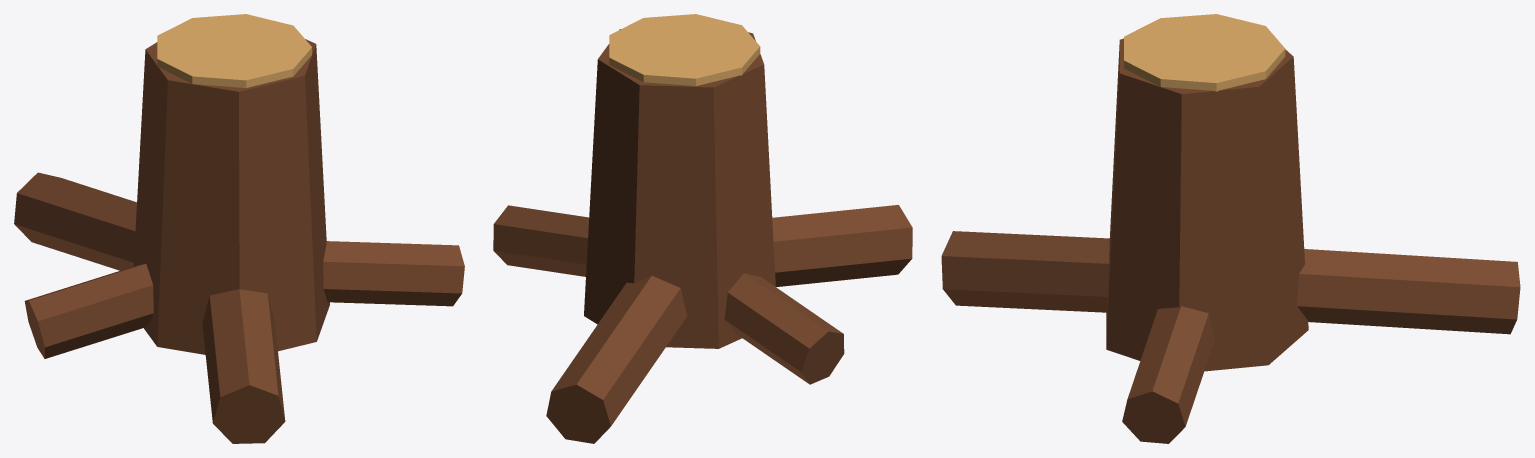
File: stump_d.glb
The picture shows the model from 3 angles, left to right: view 1: azimuth 30°, elevation 25°; view 2: azimuth 150°, elevation 25°; view 3: azimuth 270°, elevation 25°; orthographic projection. The views are drawn at different scales.
Parts seen in each view (by area): view 1: Stump.003, Root_4.001, Cut.003, Root_1.003, Root_2.003, Root_3.003; view 2: Stump.003, Root_2.003, Root_4.001, Cut.003, Root_3.003, Root_1.003; view 3: Stump.003, Root_2.003, Root_4.001, Cut.003, Root_1.003.
Boxes of the visible parts, x1,y1,x2,y2 form: Stump.003: (133, 39, 329, 354); Root_4.001: (202, 289, 285, 443); Cut.003: (157, 14, 311, 87); Root_1.003: (323, 241, 464, 306); Root_2.003: (14, 172, 136, 270); Root_3.003: (24, 263, 153, 358); Stump.003: (584, 29, 775, 348); Root_2.003: (546, 275, 687, 443); Root_4.001: (772, 205, 912, 286); Cut.003: (609, 14, 760, 85); Root_3.003: (724, 273, 844, 384); Root_1.003: (493, 205, 588, 276); Stump.003: (1106, 38, 1308, 371); Root_2.003: (1297, 249, 1520, 334); Root_4.001: (941, 231, 1109, 312); Cut.003: (1124, 14, 1285, 91); Root_1.003: (1122, 306, 1215, 443).
Bounding box in the file's own units: 1.71 × 1.22 × 2.14.
